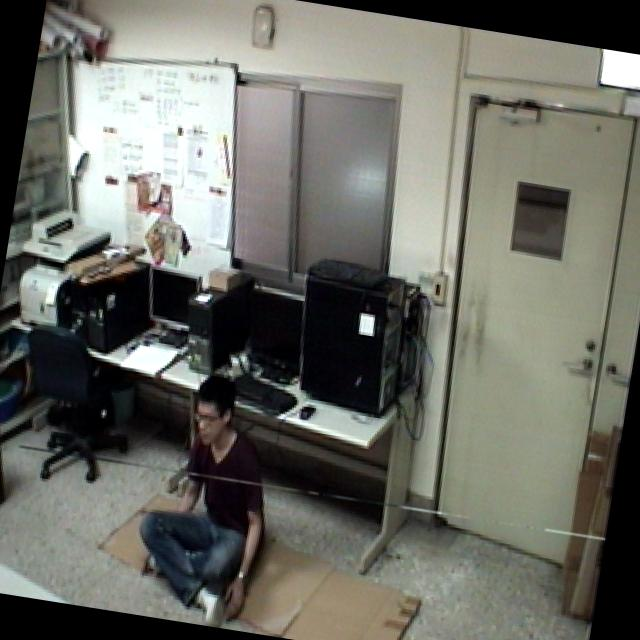sit: (124, 360, 300, 634)
